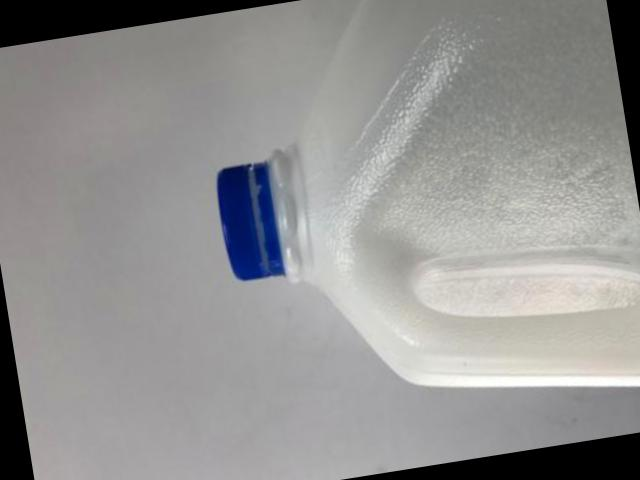plastic: (217, 0, 640, 388)
